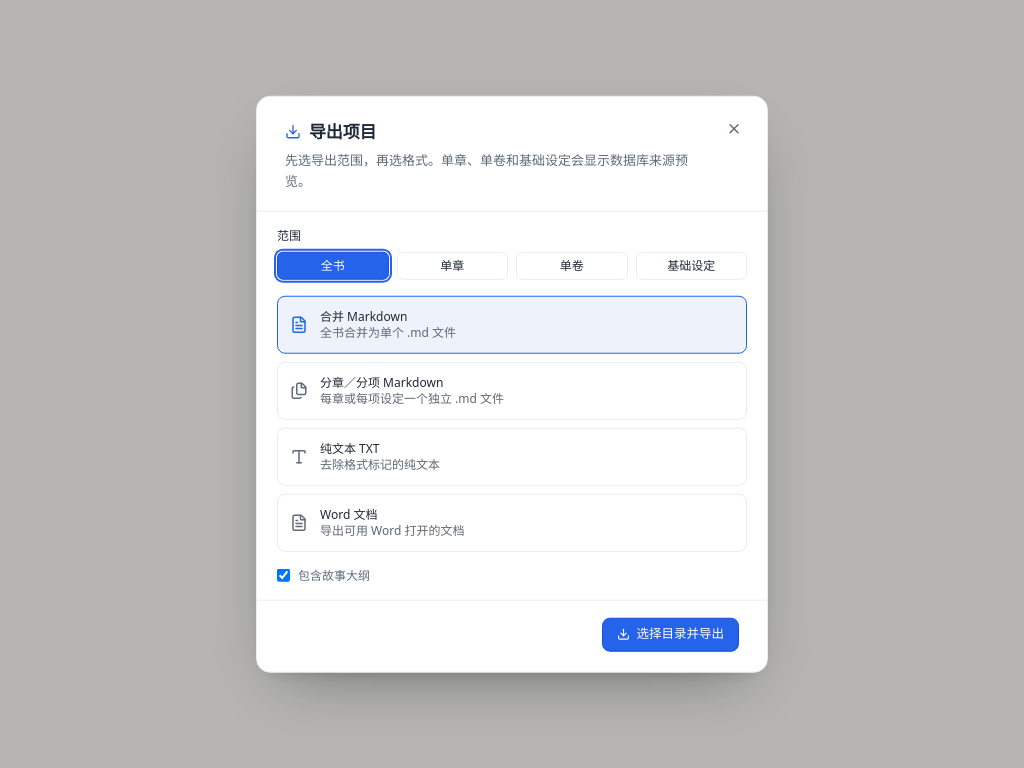
Markdown chapter and volume export browser flow › selects one version per volume chapter, previews those exact bodies, then exports the merged Markdown
Click the button "单卷" at (572, 265), box 516,251 -> 628,279
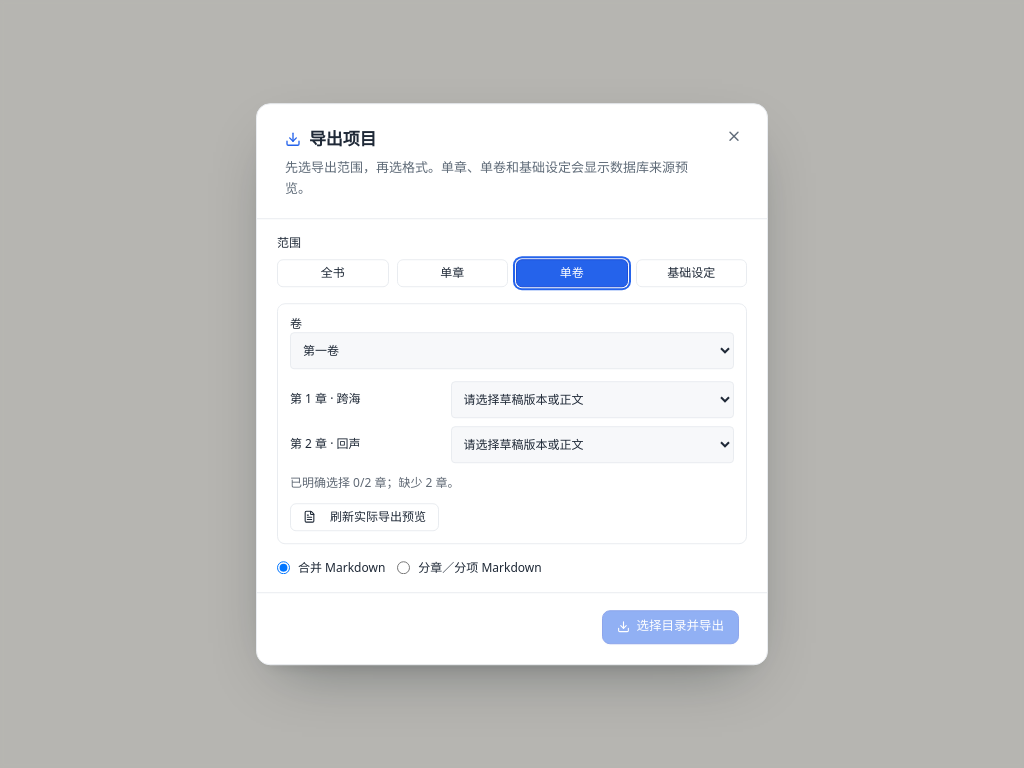
Select "第一卷" in the dropdown labelled "卷" at (512, 350), box 290,332 -> 734,369
Select "草稿 v2 · reviewed · 跨海" in the dropdown labelled "第 1 章 · 跨海" at (592, 399), box 451,381 -> 734,418
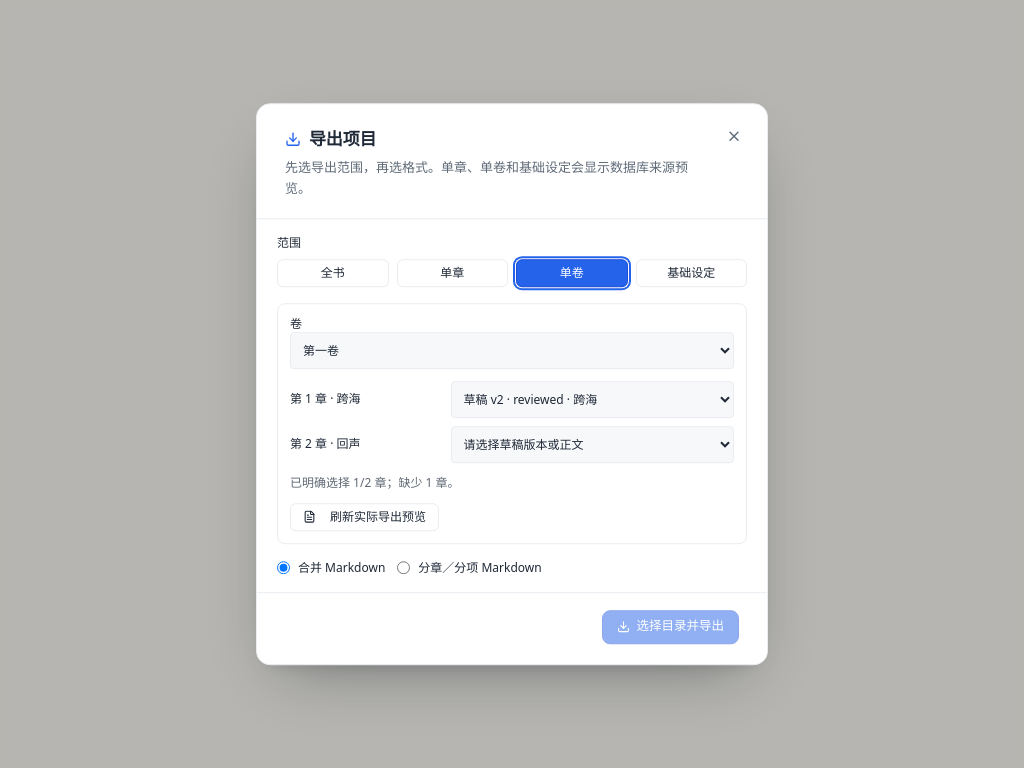
Select "正文（当前定稿 v1） · 回声" in the dropdown labelled "第 2 章 · 回声" at (592, 444), box 451,426 -> 734,463
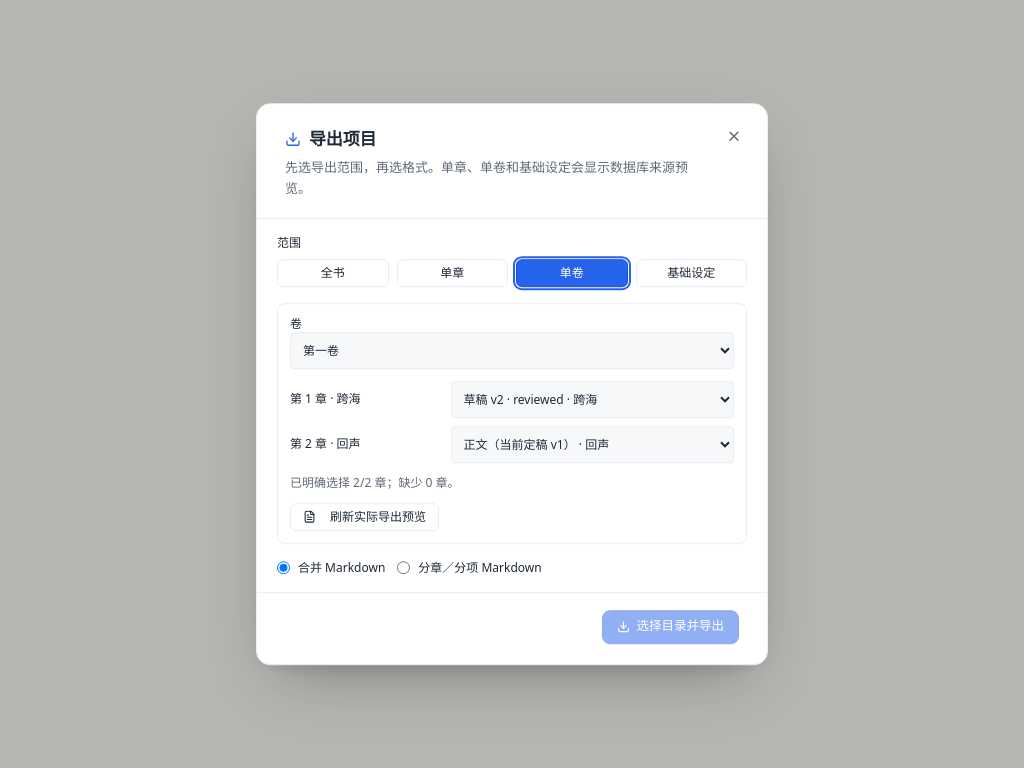
Click the button "刷新实际导出预览" at (364, 517), box 290,503 -> 439,531
(page scrolled)
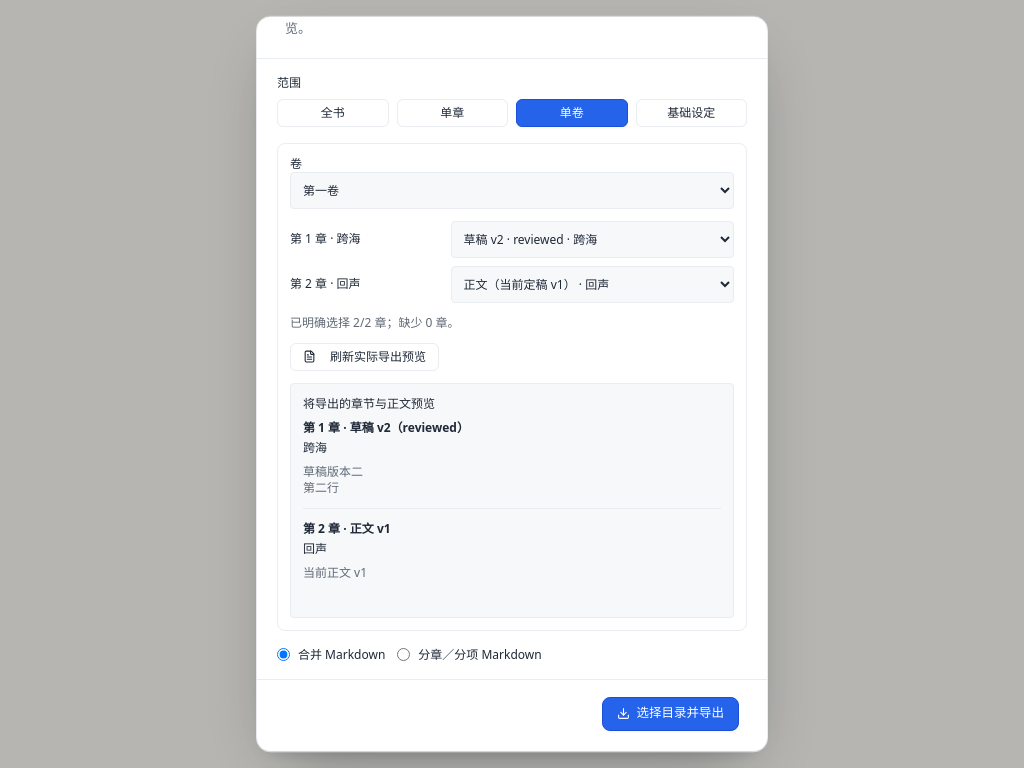
Result: the text "草稿版本二 第二行" is shown at 303,462 -> 363,496
Result: the text "第 2 章 · 正文 v1" is shown at 303,520 -> 391,536
Click the button "选择目录并导出" at (671, 714), box 602,696 -> 739,730
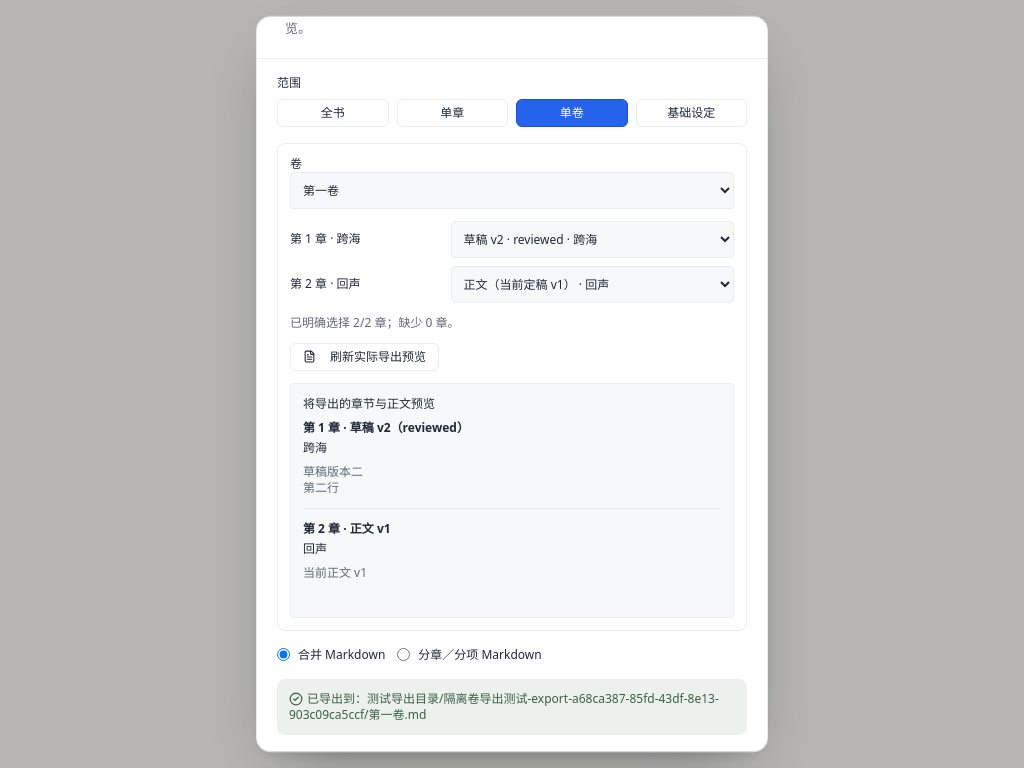
Result: the text "已导出到" is shown at 289,690 -> 719,722
